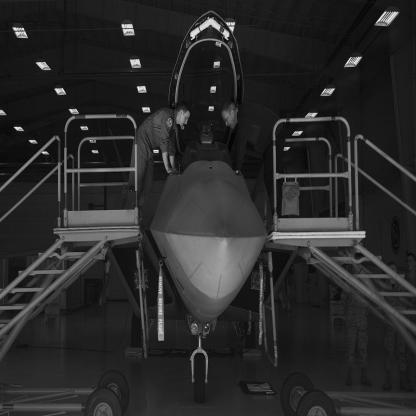F22: (2, 11, 370, 403)
